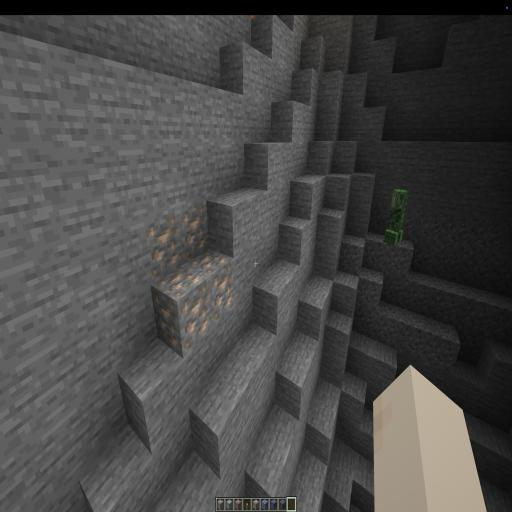iron ore: (136, 214, 238, 345)
